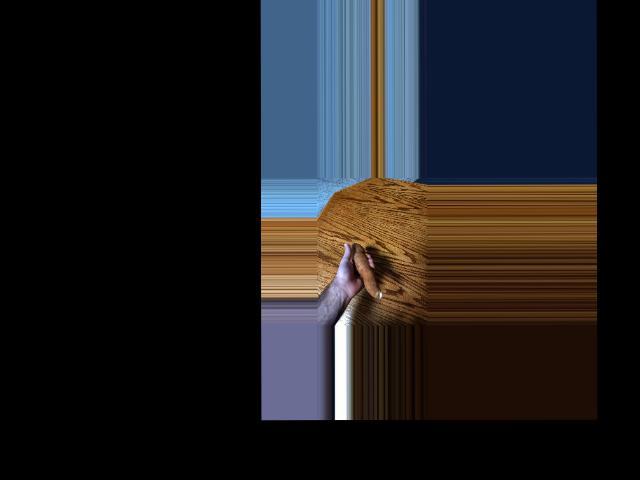sweet_potato: (352, 240, 381, 299)
